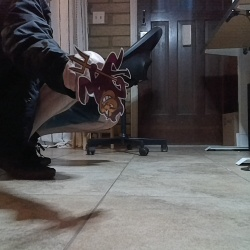sparky: (66, 45, 131, 122)
